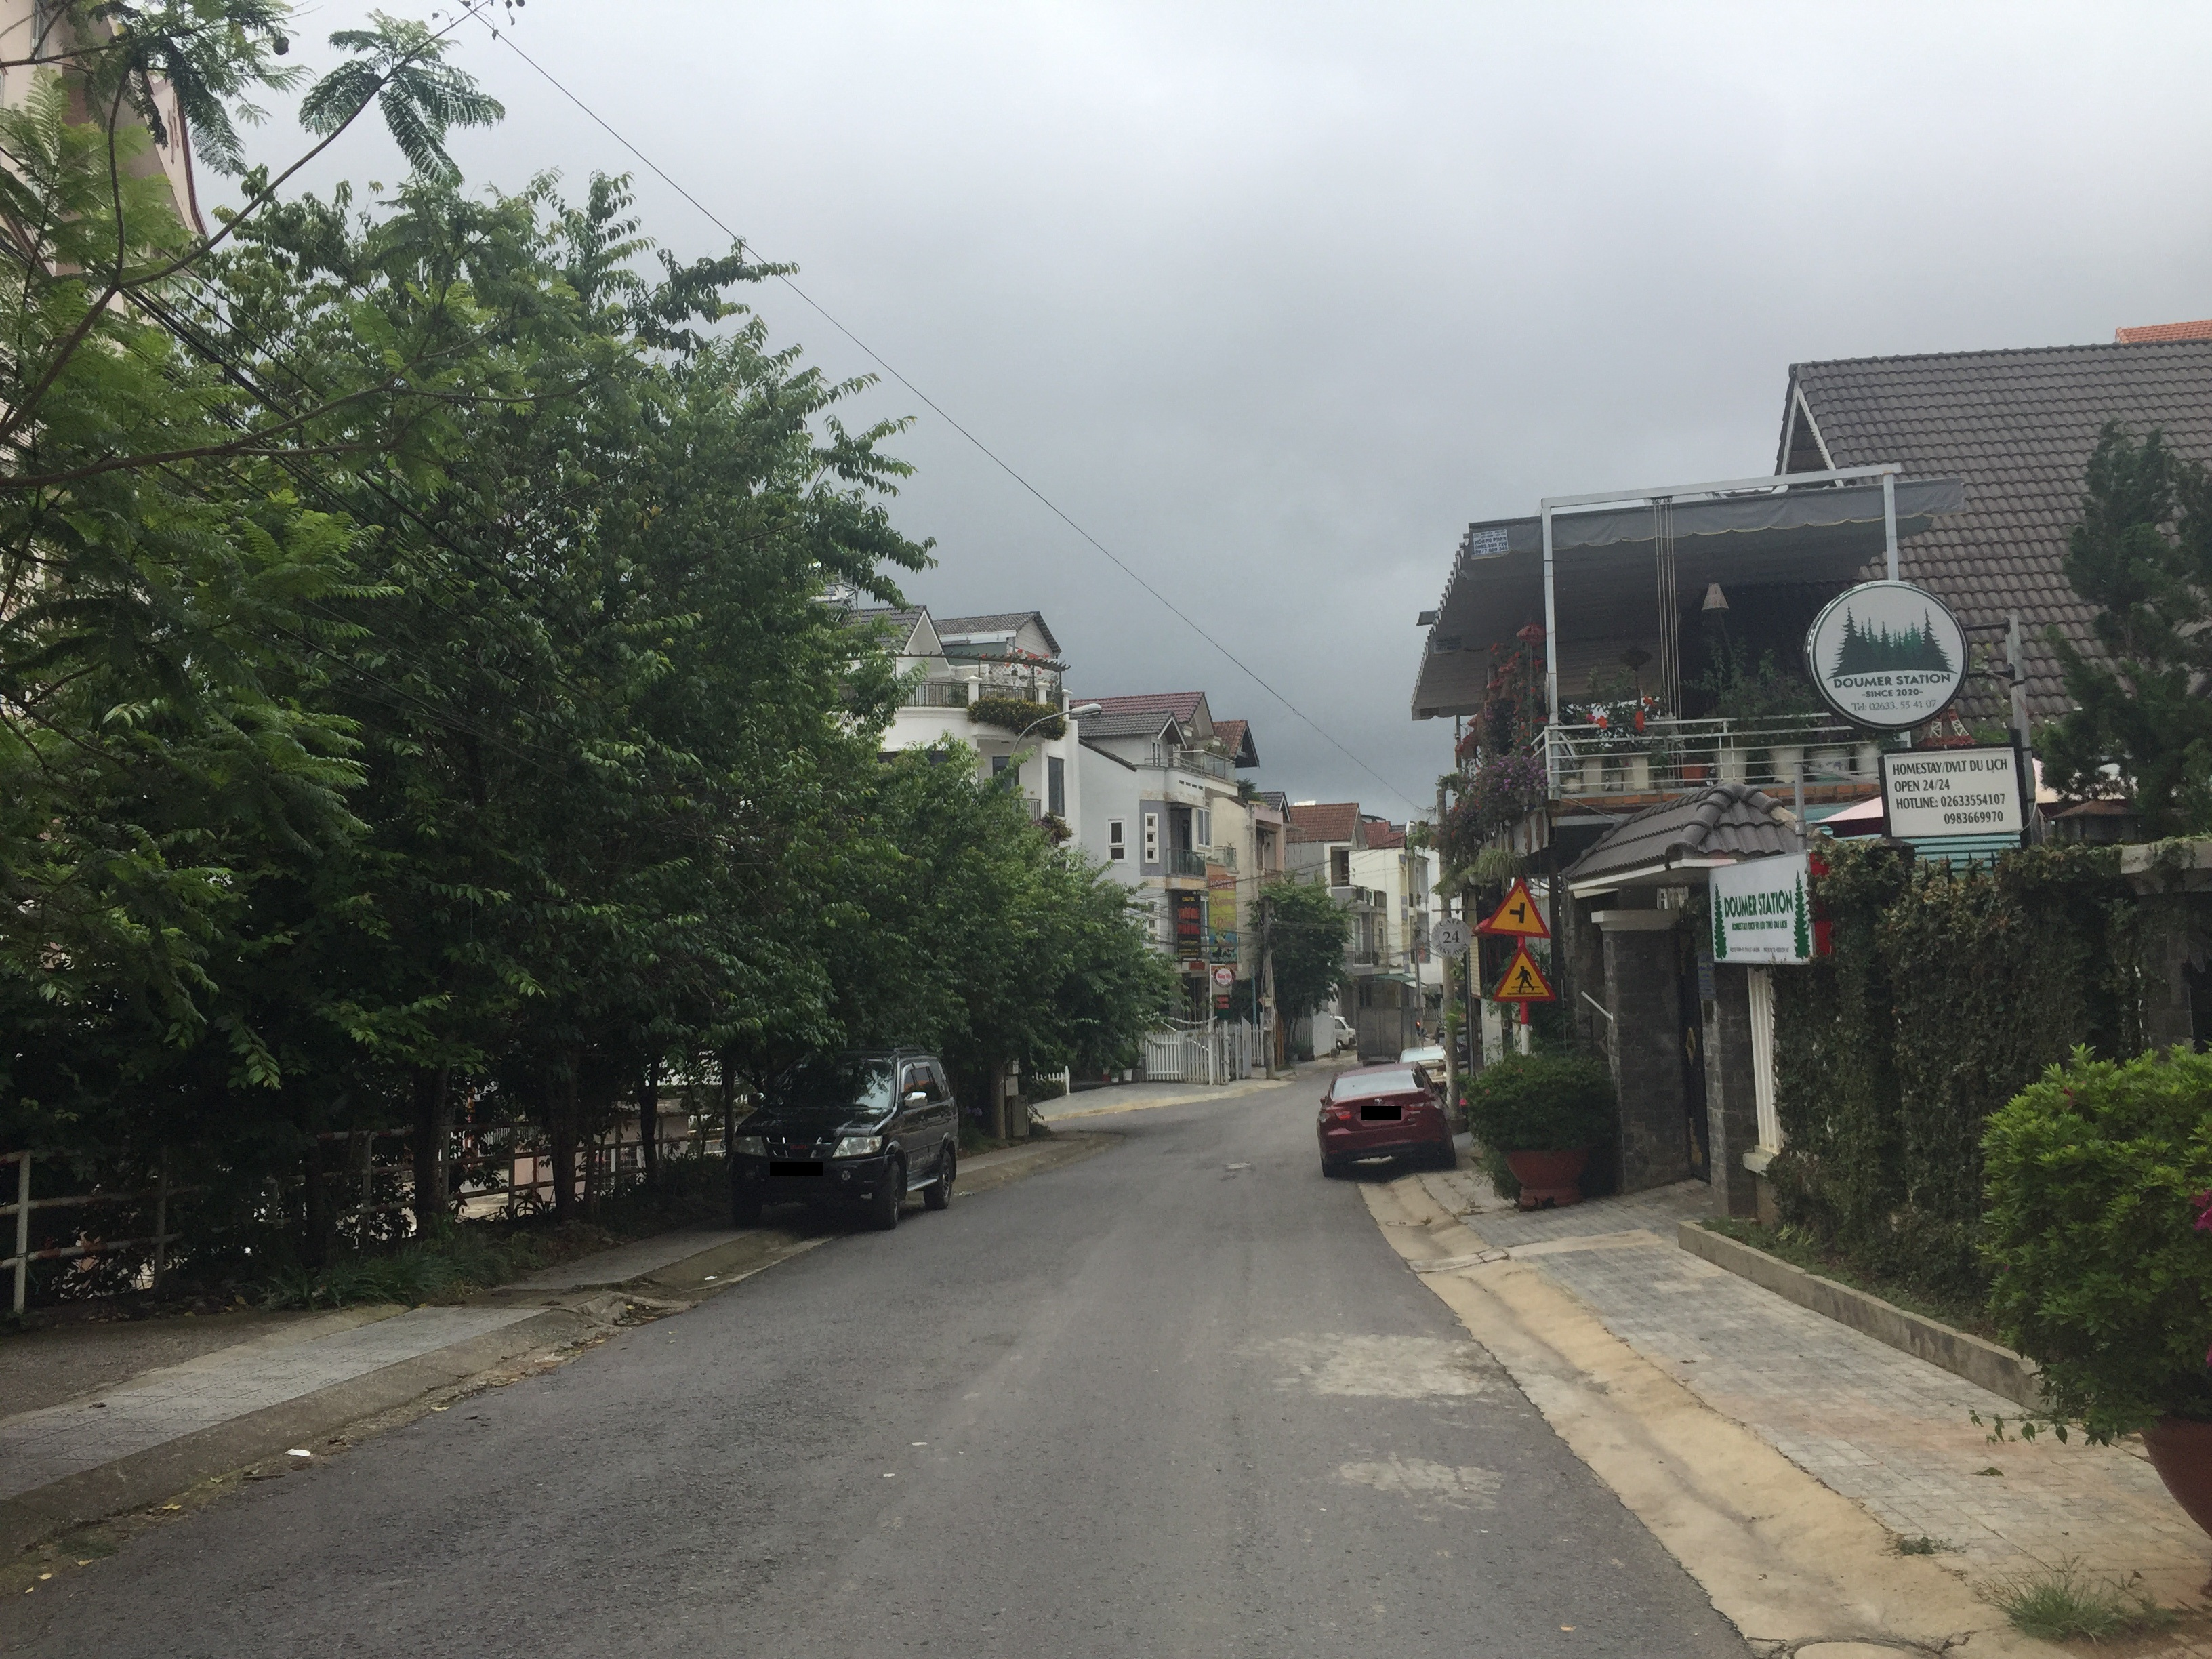hole: (1223, 1161, 1252, 1169)
